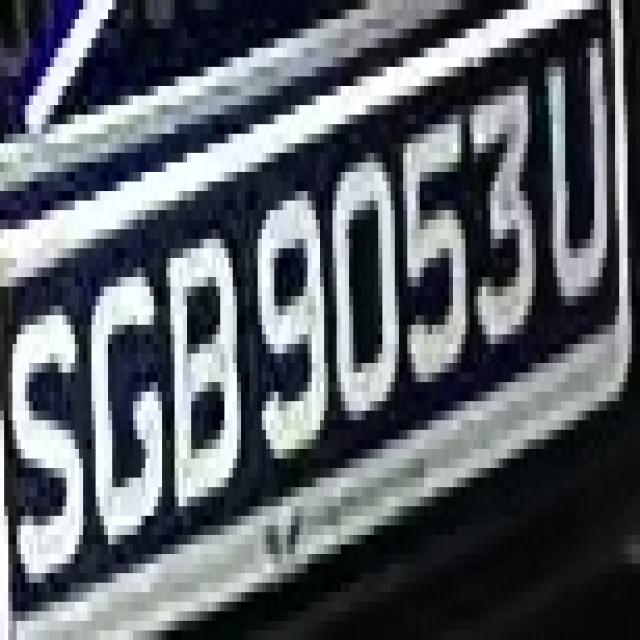0: (316, 143, 407, 449)
3: (461, 76, 536, 354)
5: (390, 105, 470, 373)
9: (241, 153, 324, 497)
B: (158, 182, 245, 526)
G: (96, 220, 170, 573)
S: (8, 277, 92, 630)
U: (536, 19, 628, 296)
